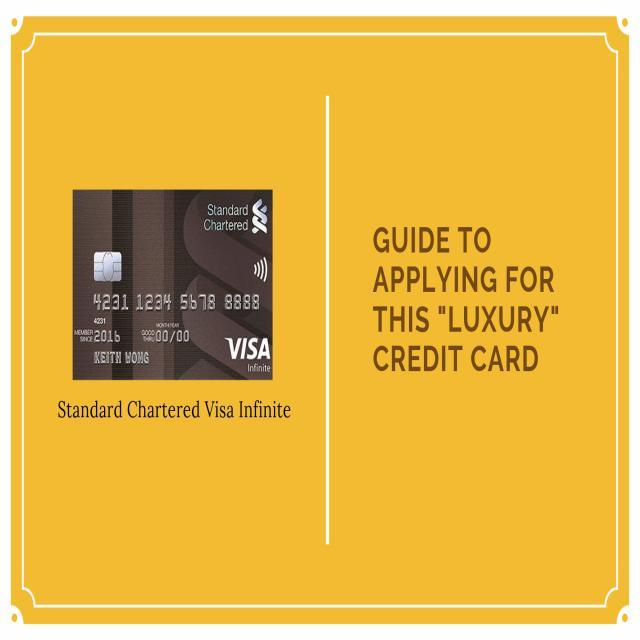Standard Chartered: (203, 199, 268, 234)
